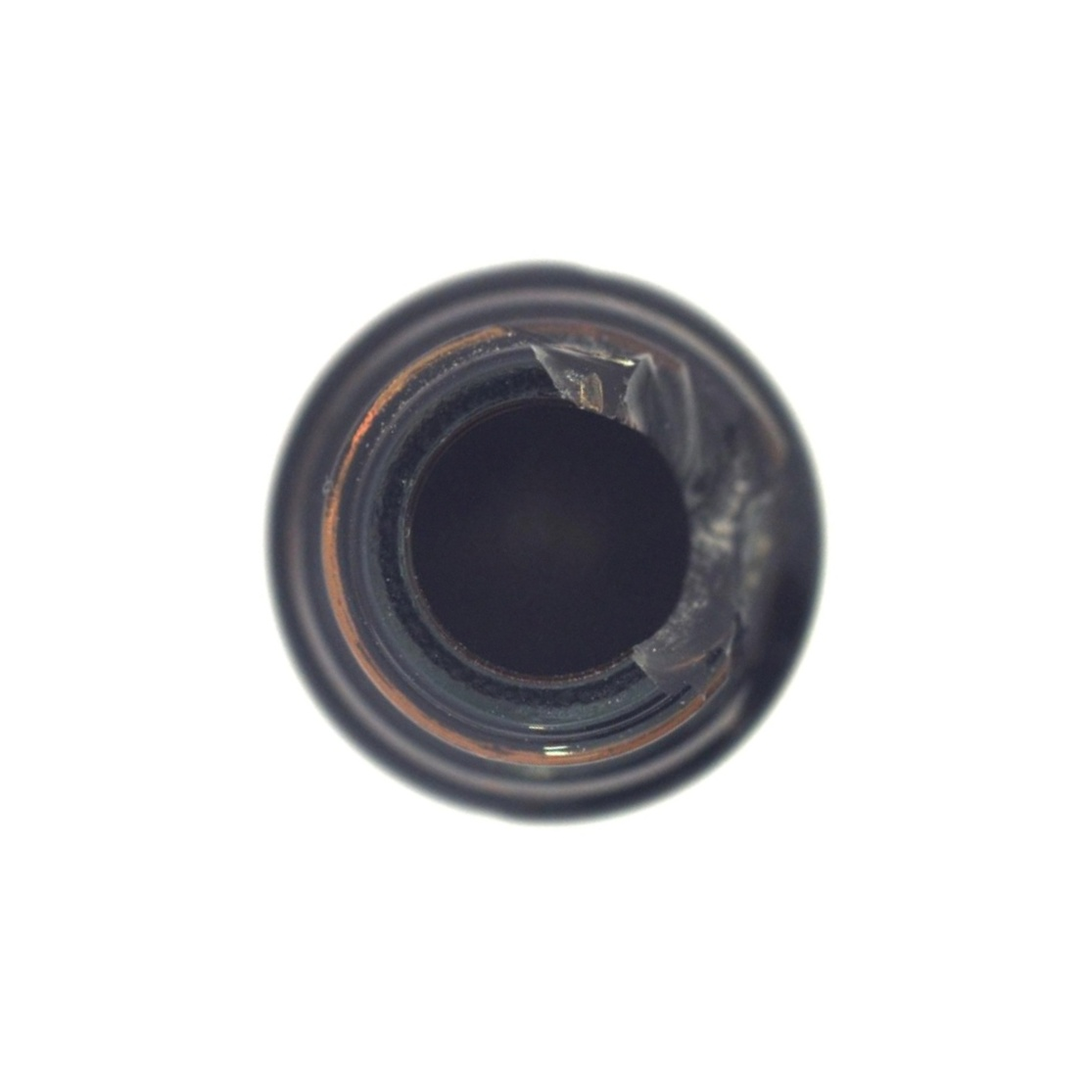bad-broken_large: (53, 57, 1034, 1039)
